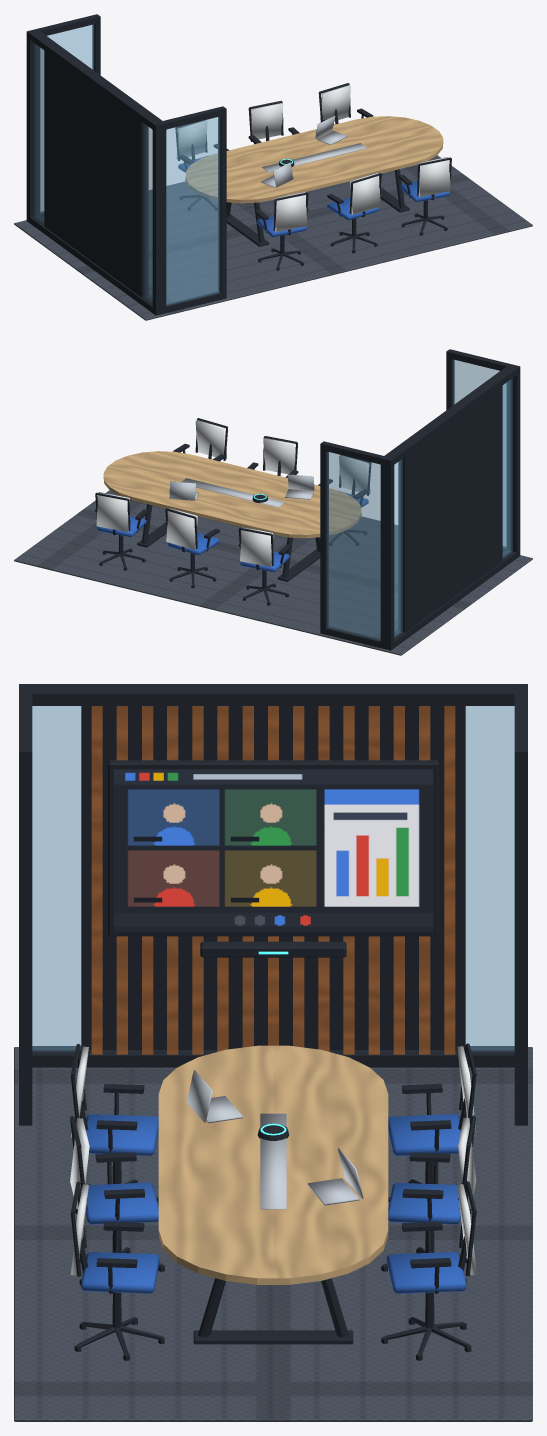
File: prop_conference_pod.glb
3 renders of one model, top to bottom at view 1: azimuth 30°, elevation 25°; view 2: azimuth 150°, elevation 25°; view 3: azimuth 270°, elevation 25°, orthographic. The views are drawn at different scales.
Parts seen in each view (by area): view 1: ConfPod_DarkSteel, ConfPod_AreaRug, ConfPod_GlassWings, ConfPod_BirchTable, ConfPod_ChairShells, ConfPod_Aluminum, ConfPod_ChairPads; view 2: ConfPod_DarkSteel, ConfPod_AreaRug, ConfPod_GlassWings, ConfPod_BirchTable, ConfPod_ChairShells, ConfPod_Aluminum, ConfPod_ChairPads; view 3: ConfPod_AreaRug, ConfPod_DarkSteel, ConfPod_MeetScreen, ConfPod_BirchTable, ConfPod_GlassWings, ConfPod_CedarSlats, ConfPod_ChairPads, ConfPod_Aluminum, ConfPod_ChairShells.
Part boxes in pixels (x1=…): ConfPod_DarkSteel: x1=26, y1=14, x2=451, y2=315; ConfPod_AreaRug: x1=14, y1=155, x2=532, y2=320; ConfPod_GlassWings: x1=34, y1=24, x2=219, y2=305; ConfPod_BirchTable: x1=185, y1=116, x2=443, y2=203; ConfPod_ChairShells: x1=176, y1=85, x2=450, y2=231; ConfPod_Aluminum: x1=260, y1=116, x2=366, y2=187; ConfPod_ChairPads: x1=178, y1=155, x2=449, y2=237; ConfPod_DarkSteel: x1=95, y1=349, x2=520, y2=650; ConfPod_AreaRug: x1=14, y1=490, x2=532, y2=655; ConfPod_GlassWings: x1=327, y1=359, x2=512, y2=640; ConfPod_BirchTable: x1=103, y1=451, x2=361, y2=538; ConfPod_ChairShells: x1=96, y1=420, x2=370, y2=566; ConfPod_Aluminum: x1=169, y1=474, x2=314, y2=507; ConfPod_ChairPads: x1=97, y1=490, x2=368, y2=572; ConfPod_AreaRug: x1=14, y1=1047, x2=532, y2=1421; ConfPod_DarkSteel: x1=19, y1=684, x2=527, y2=1360; ConfPod_MeetScreen: x1=113, y1=769, x2=433, y2=931; ConfPod_BirchTable: x1=158, y1=1045, x2=388, y2=1284; ConfPod_GlassWings: x1=32, y1=706, x2=514, y2=1051; ConfPod_CedarSlats: x1=91, y1=706, x2=455, y2=1054; ConfPod_ChairPads: x1=81, y1=1114, x2=466, y2=1293; ConfPod_Aluminum: x1=186, y1=1070, x2=363, y2=1209; ConfPod_ChairShells: x1=70, y1=1046, x2=476, y2=1275.
Bounding box in the file's own units: 5.3 × 2.5 × 3.12.
Materials: 10 (4 with a texture image).
